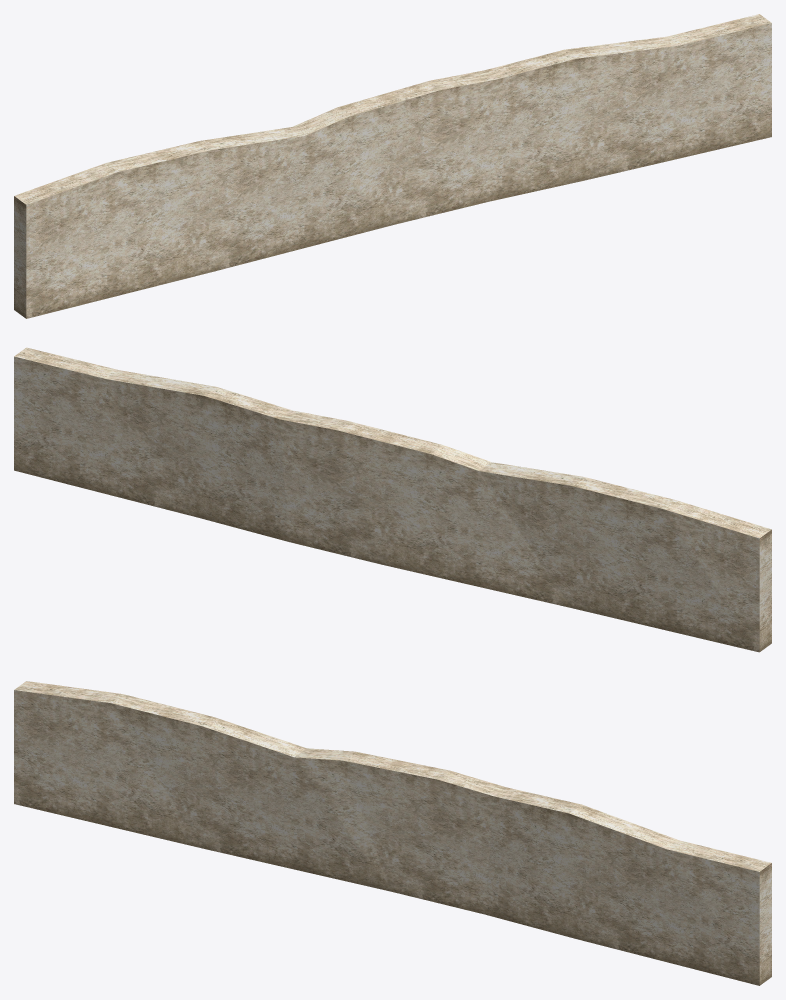
File: thm_tato_jnkshp_wall_l1.fbx
3 views of the same model, one above another, from view 1: azimuth 30°, elevation 25°; view 2: azimuth 150°, elevation 25°; view 3: azimuth 330°, elevation 25° (orthographic).
Visible parts, largest first — view 1: mesh_node; view 2: mesh_node; view 3: mesh_node.
Part boxes in pixels (left/top/right/bottom): mesh_node: left=14, top=14, right=771, bottom=318; mesh_node: left=14, top=347, right=771, bottom=652; mesh_node: left=14, top=681, right=771, bottom=985.
Size of the model in its own units: 20 by 3.17 by 0.7837.
